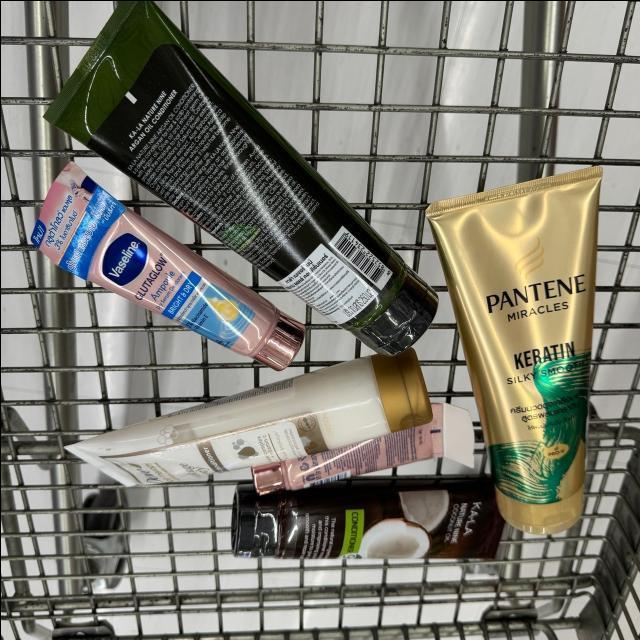Squeeze Tube: (38, 3, 443, 358), (426, 166, 605, 537), (75, 342, 454, 512), (29, 167, 310, 375), (229, 477, 510, 571), (248, 400, 449, 499)
